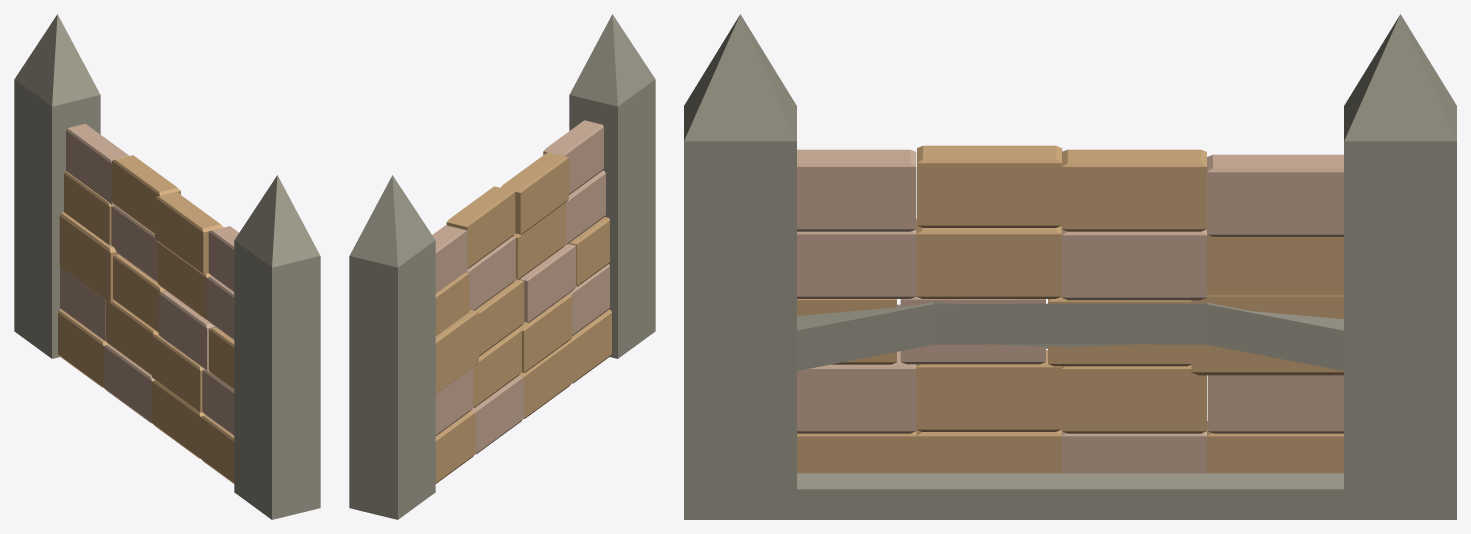
The model's file is brickwall.fbx.
The picture shows the model from 3 angles, left to right: view 1: azimuth 30°, elevation 25°; view 2: azimuth 150°, elevation 25°; view 3: azimuth 270°, elevation 25°; orthographic projection. The views are drawn at different scales.
Visible parts, largest first — view 1: BrickWall; view 2: BrickWall; view 3: BrickWall.
Part boxes in pixels (x1,y1,x2,y2): BrickWall: [14, 14, 320, 519]; BrickWall: [349, 14, 655, 519]; BrickWall: [684, 14, 1456, 519].
Size of the model in its own units: 0.4469 by 2.87 by 4.11.
